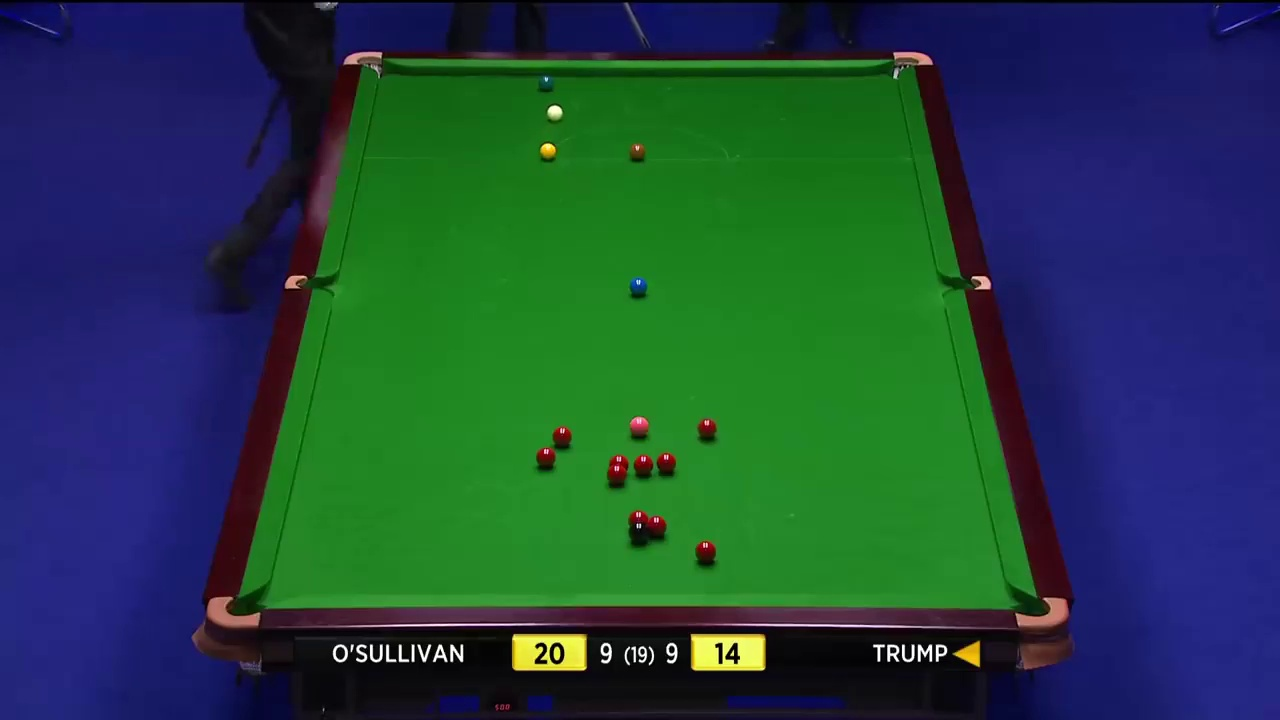ball: (655, 450, 677, 472), (534, 70, 557, 90), (627, 416, 651, 435), (695, 540, 715, 562), (698, 416, 718, 437), (551, 425, 571, 445), (546, 102, 565, 121), (537, 446, 554, 466), (537, 141, 556, 158), (631, 276, 648, 293), (629, 144, 645, 158)
